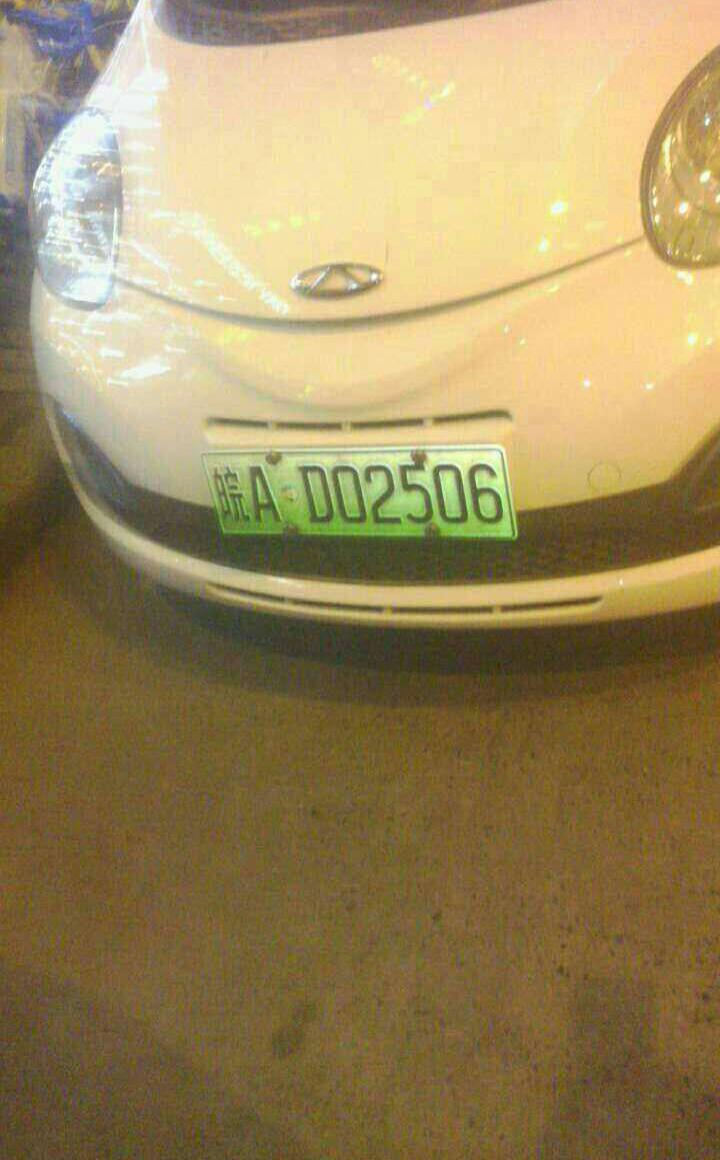car_id: (207, 453, 513, 537)
